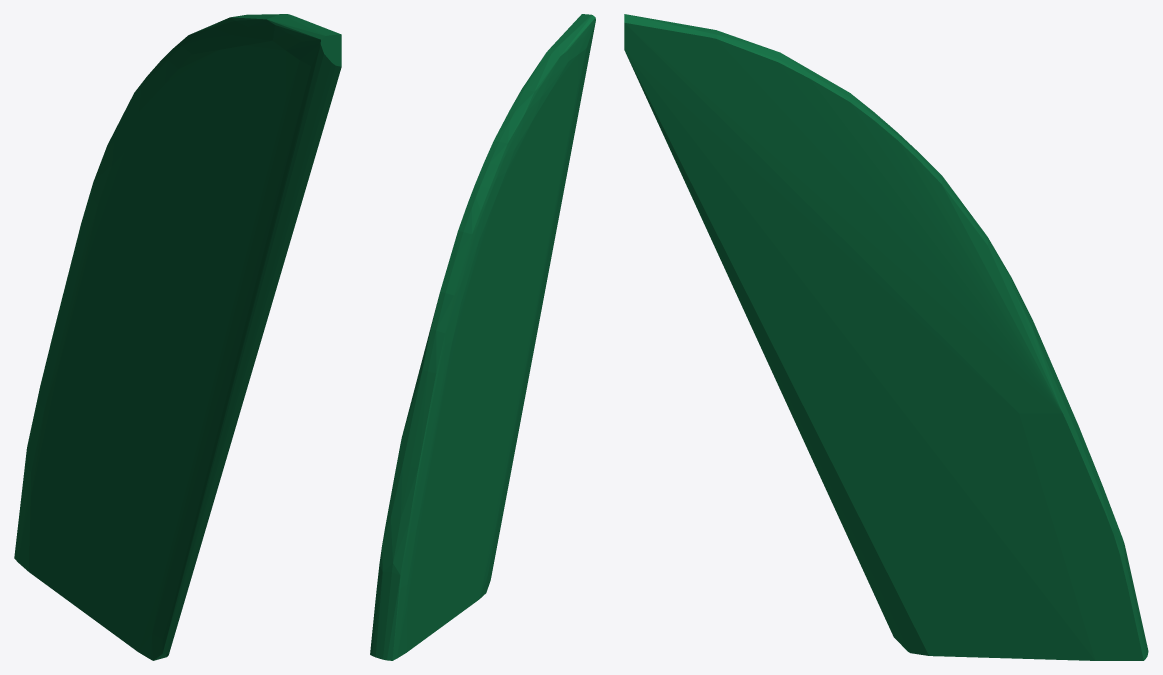
Rendered from right-shoulder-pitch-0_part_115.obj.
3 views of the same model, side by side, from view 1: azimuth 30°, elevation 25°; view 2: azimuth 150°, elevation 25°; view 3: azimuth 270°, elevation 25° (orthographic). The views are drawn at different scales.
Size of the model in its own units: 0.00333 by 0.062 by 0.0464.
